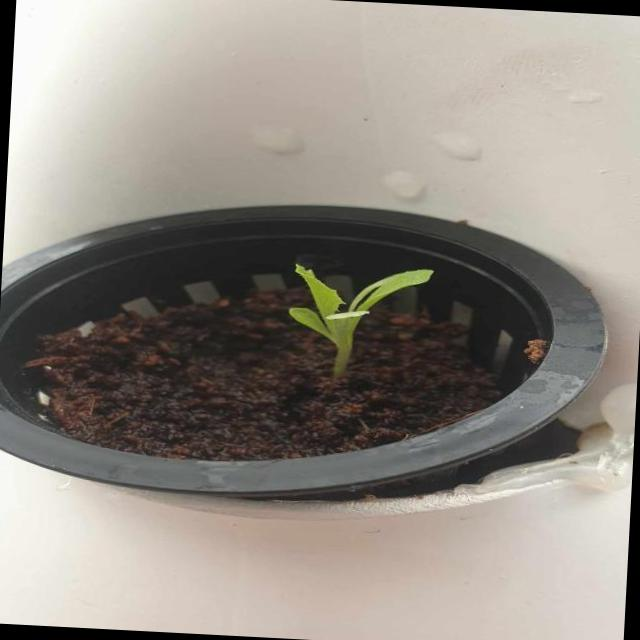Lettuce-Not-Ready-to-Harvest: (289, 265, 434, 378)
